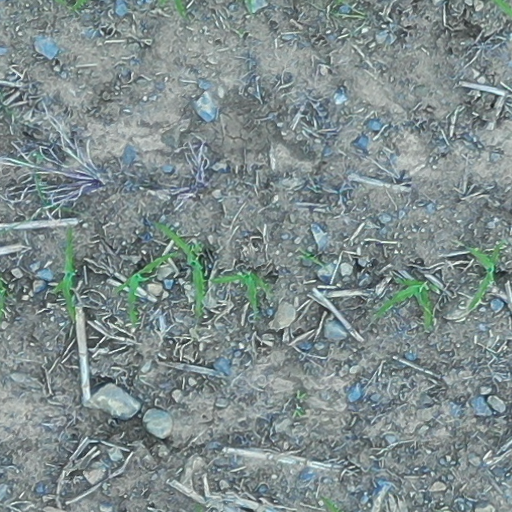planta: (157, 222, 206, 314), (116, 252, 175, 324), (377, 277, 434, 326), (469, 243, 502, 305), (53, 233, 77, 315), (211, 273, 269, 305)
